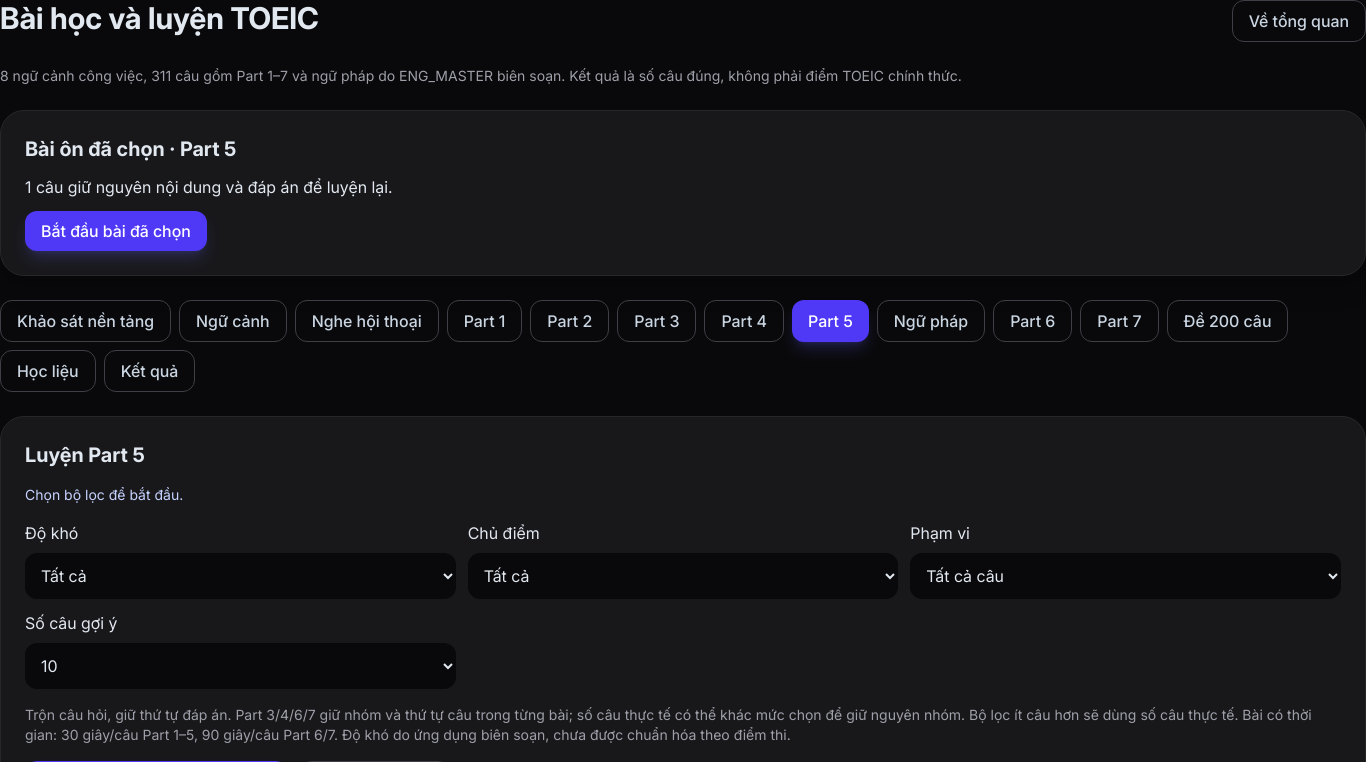
Test: blocks false completion and retains the draft when history cannot be saved
Click the button "Bắt đầu bài đã chọn". click: (116, 231)
box: [25, 211, 207, 251]
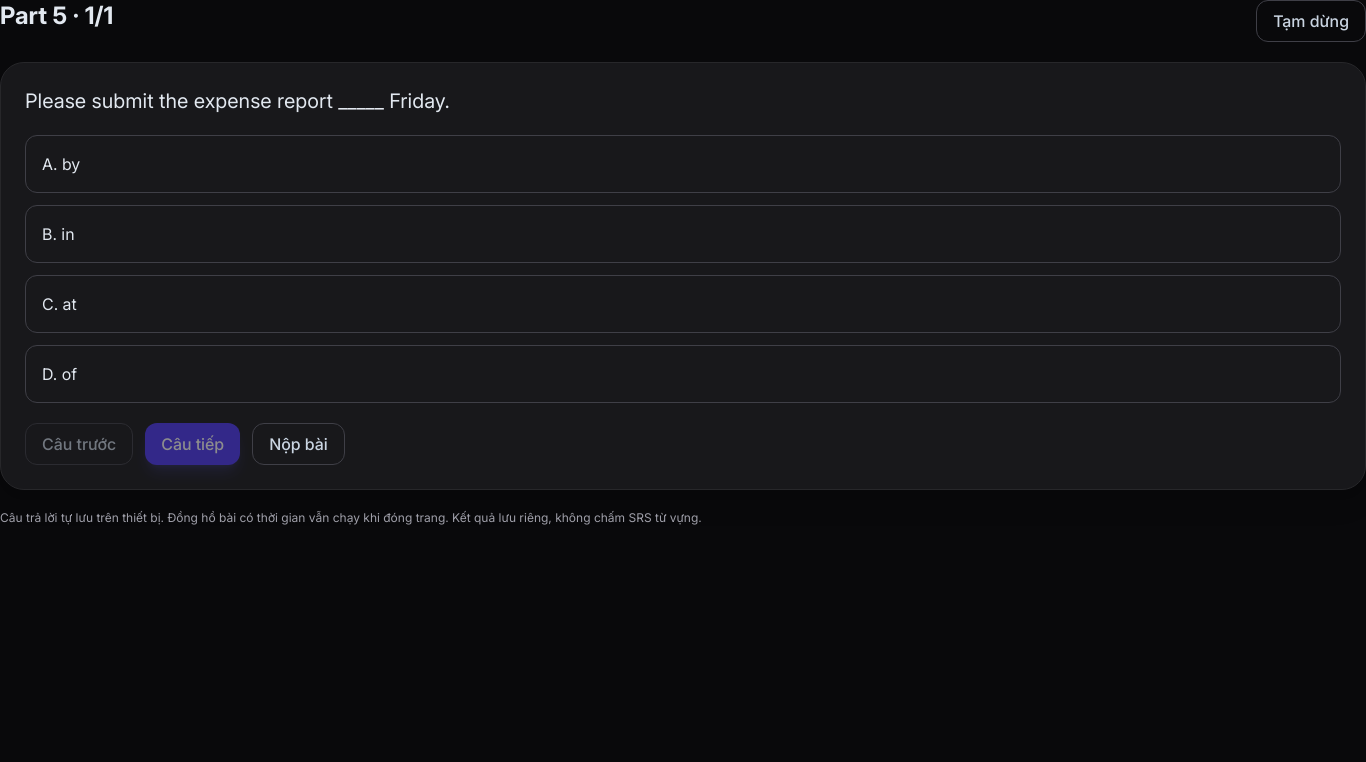
Click the button "Nộp bài". click: (298, 444)
box: [252, 423, 345, 465]
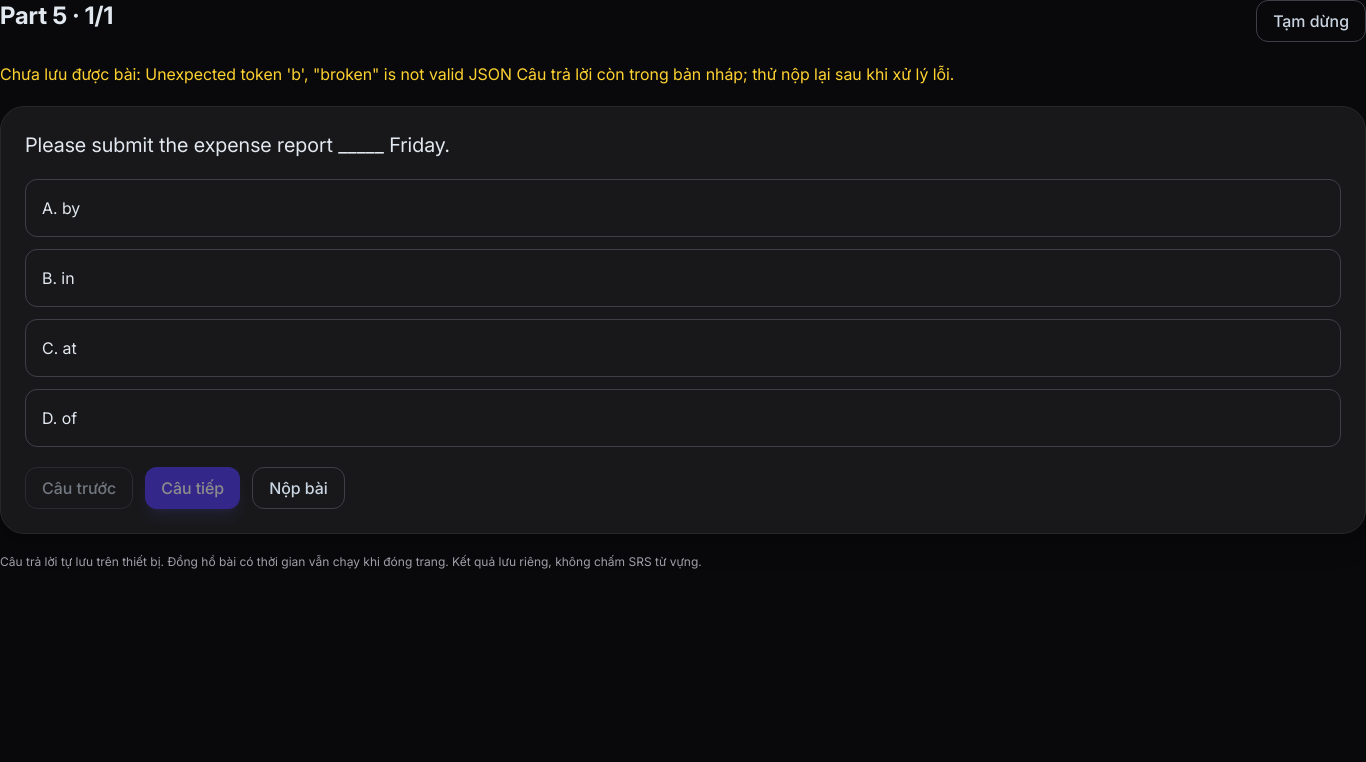
Result: the heading "Part 5 · 1/1" is shown at [0, 0, 113, 42]
Result: the message is shown at [0, 64, 954, 84]
